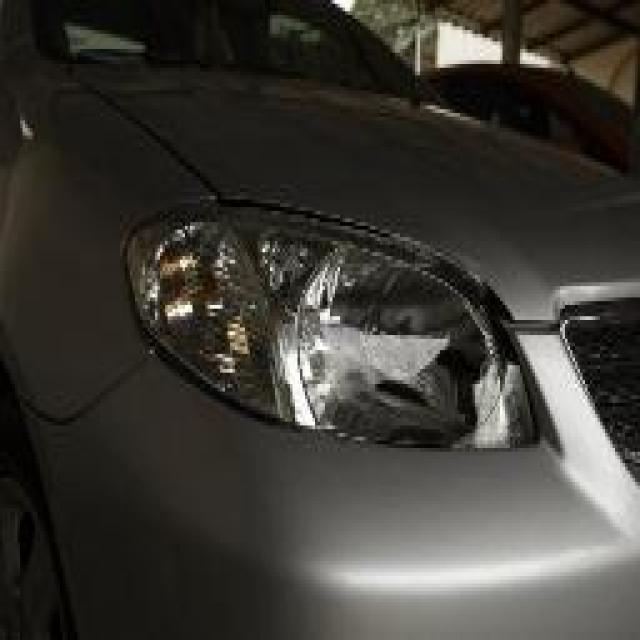Light: (322, 271, 510, 448)
